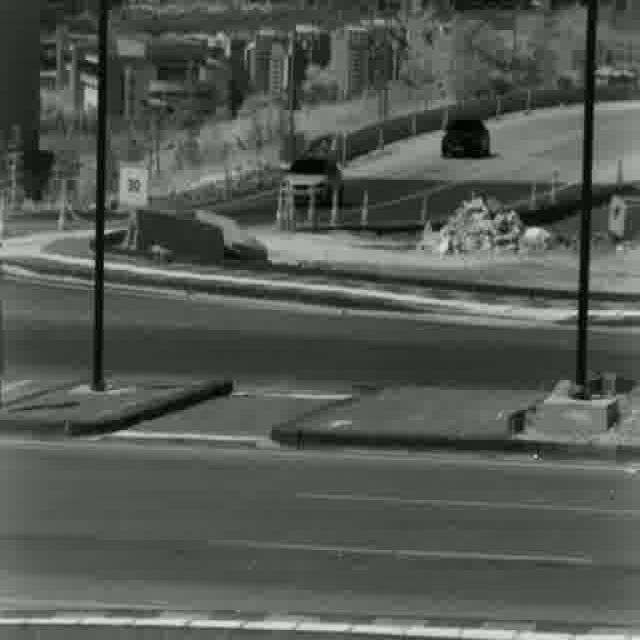Car: (280, 157, 342, 206), (441, 120, 491, 159)
